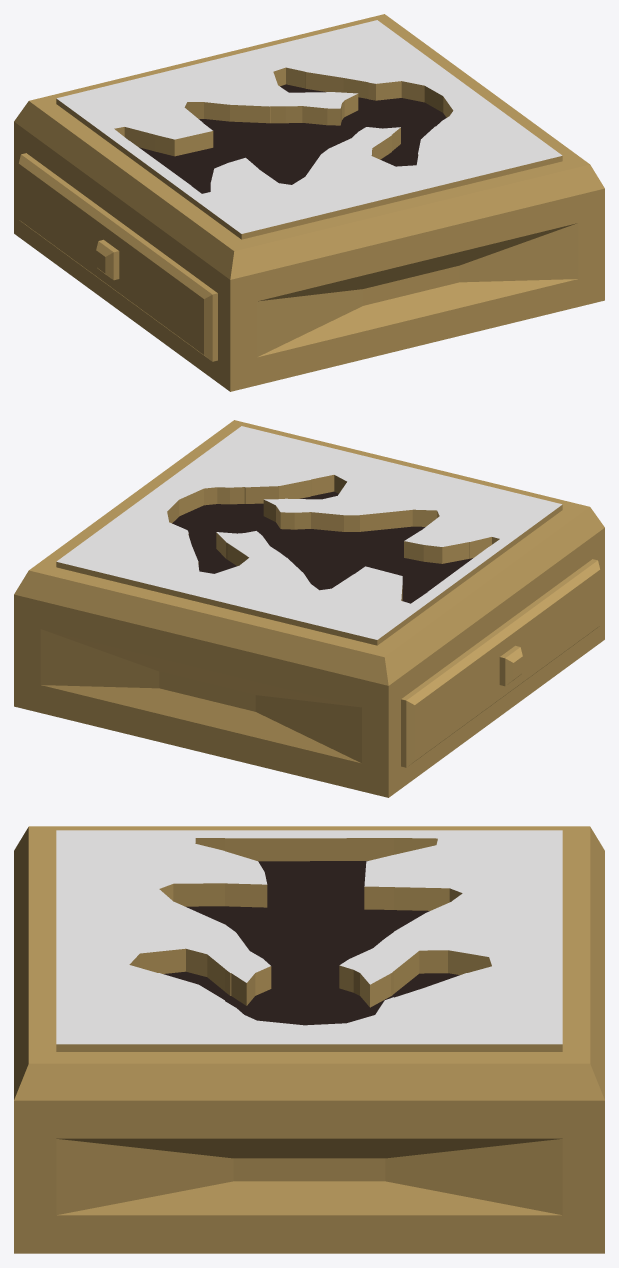
File: Room1_Puzzle_001.fbx
3 renders of one model, top to bottom at view 1: azimuth 30°, elevation 25°; view 2: azimuth 150°, elevation 25°; view 3: azimuth 270°, elevation 25°, orthographic. The views are drawn at different scales.
Visible parts, largest first — view 1: Room1_Box, Room1_drawer, Room1_Piece.015, Room1_Piece.017, Room1_Piece.018, Room1_Piece.012, Room1_Piece.016, Room1_Piece.014, Room1_Piece.010, Room1_Piece.013, Room1_Piece.011; view 2: Room1_Box, Room1_drawer, Room1_Piece.016, Room1_Piece.013, Room1_Piece.014, Room1_Piece.017, Room1_Piece.010, Room1_Piece.018, Room1_Piece.012, Room1_Piece.015, Room1_Piece.011; view 3: Room1_Box, Room1_Piece.011, Room1_Piece.012, Room1_Piece.010, Room1_Piece.016, Room1_Piece.018, Room1_Piece.015, Room1_Piece.013, Room1_Piece.014, Room1_Piece.017.
Part boxes in pixels (x1,y1,x2,y2): Room1_Box: (14,14,604,391); Room1_drawer: (18,153,217,361); Room1_Piece.015: (163,46,328,134); Room1_Piece.017: (333,65,500,153); Room1_Piece.018: (270,20,438,101); Room1_Piece.012: (56,72,224,153); Room1_Piece.016: (394,110,562,187); Room1_Piece.014: (225,92,393,179); Room1_Piece.010: (179,169,348,239); Room1_Piece.013: (287,138,455,213); Room1_Piece.011: (118,123,286,193); Room1_Box: (14,420,604,797); Room1_drawer: (401,559,600,767); Room1_Piece.016: (180,426,348,508); Room1_Piece.013: (294,452,455,540); Room1_Piece.014: (225,498,393,585); Room1_Piece.017: (118,471,283,559); Room1_Piece.010: (394,478,562,559); Room1_Piece.018: (56,516,224,593); Room1_Piece.012: (270,574,439,645); Room1_Piece.015: (163,543,331,619); Room1_Piece.011: (332,530,500,603); Room1_Box: (14,826,604,1253); Room1_Piece.011: (225,830,393,924); Room1_Piece.012: (394,830,562,924); Room1_Piece.010: (56,830,224,924); Room1_Piece.016: (56,973,224,1051); Room1_Piece.018: (394,973,562,1051); Room1_Piece.015: (394,901,562,995); Room1_Piece.013: (56,901,224,995); Room1_Piece.014: (225,924,393,995); Room1_Piece.017: (225,973,393,1051).
Size of the model in its own units: 0.74 by 0.7 by 0.25.
